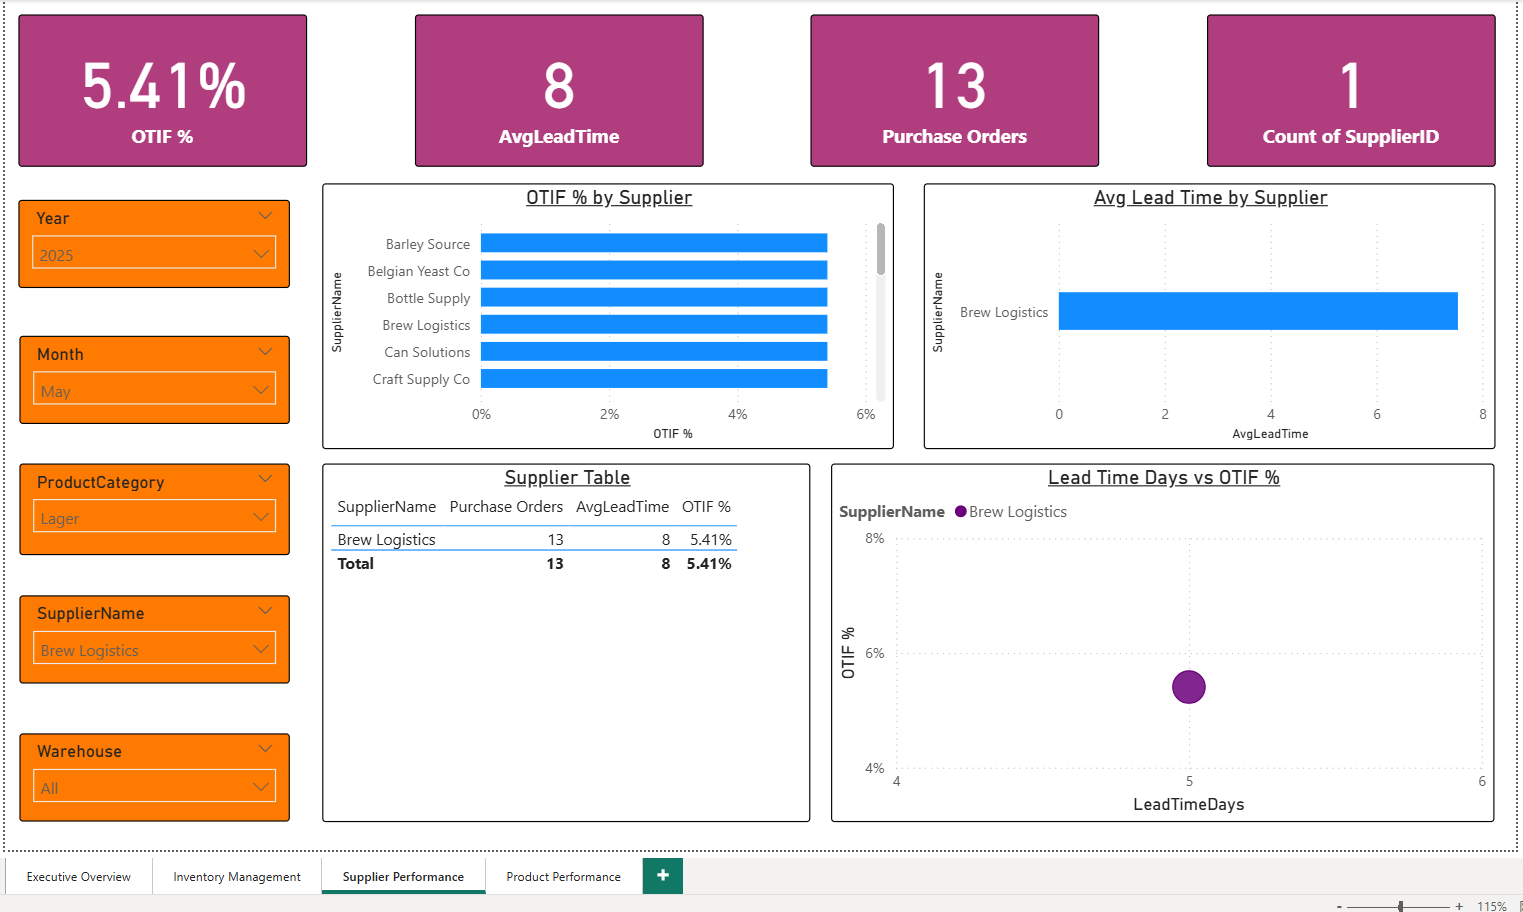

Layout of this report page (visuals, bound fields, positions):
{"tool":"powerbi","page":{"name":"Supplier Performance","canvas":[1280,720],"ordinal":2},"visuals":[{"type":"card","fields":{"Values":["CountNonNull(DimSupplier.SupplierID)"]},"box":[1018.3,12.5,244.5,129],"z":0},{"type":"card","fields":{"Values":["Measure.Purchase Orders"]},"box":[682.5,12.5,244.5,129],"z":1000},{"type":"card","fields":{"Values":["Measure.AvgLeadTime"]},"box":[347.5,12.5,244.5,129],"z":2000},{"type":"card","fields":{"Values":["Measure.OTIF %"]},"box":[11.6,12.5,244.5,129],"z":3000},{"type":"slicer","fields":{"Values":["DimDate.Year"]},"box":[11.6,169.3,230.2,75.2],"z":4000},{"type":"slicer","fields":{"Values":["DimDate.Month"]},"box":[12.5,284.8,229.3,75.2],"z":5000},{"type":"slicer","fields":{"Values":["DimSupplier.SupplierName"]},"box":[12.5,504.2,229.3,75.2],"z":6000},{"type":"slicer","fields":{"Values":["Dimproduct.ProductCategory"]},"box":[12.5,393.2,229.3,77.9],"z":7000},{"type":"slicer","fields":{"Values":["FactInventory.Warehouse"]},"box":[12.5,621.6,229.3,75.2],"z":8000},{"type":"clusteredBarChart","title":"OTIF % by Supplier","fields":{"Category":["DimSupplierPerformance.SupplierName"],"Y":["Measure.OTIF %"]},"box":[268.7,154.9,484.5,224.8],"z":9000},{"type":"clusteredBarChart","title":"Avg Lead Time by Supplier","fields":{"Y":["Measure.AvgLeadTime"],"Category":["DimSupplier.SupplierName"]},"box":[778.3,154.9,484.5,224.8],"z":10000},{"type":"tableEx","title":"Supplier Table","fields":{"Values":["DimSupplier.SupplierName","Measure.Purchase Orders","Measure.AvgLeadTime","Measure.OTIF %"]},"box":[268.7,393.2,413.8,303.6],"z":11000},{"type":"scatterChart","title":"Lead Time Days vs OTIF %","fields":{"X":["DimSupplier.LeadTimeDays"],"Y":["Measure.OTIF %"],"Size":["Measure.Purchase Orders"],"Series":["DimSupplier.SupplierName"]},"box":[700.4,393.2,562.4,303.6],"z":12000}]}

Visuals, with their boxes in screenshot pixels (x1, y1, x2, y2):
card - CountNonNull(DimSupplier.SupplierID): [1199, 15, 1486, 166]
card - Measure.Purchase Orders: [805, 15, 1092, 166]
card - Measure.AvgLeadTime: [412, 15, 699, 166]
card - Measure.OTIF %: [18, 15, 304, 166]
slicer - DimDate.Year: [18, 199, 288, 287]
slicer - DimDate.Month: [19, 334, 288, 422]
slicer - DimSupplier.SupplierName: [19, 592, 288, 680]
slicer - Dimproduct.ProductCategory: [19, 461, 288, 553]
slicer - FactInventory.Warehouse: [19, 729, 288, 818]
"OTIF % by Supplier" clusteredBarChart: [319, 182, 888, 446]
"Avg Lead Time by Supplier" clusteredBarChart: [917, 182, 1486, 446]
"Supplier Table" tableEx: [319, 461, 805, 818]
"Lead Time Days vs OTIF %" scatterChart: [826, 461, 1486, 818]
